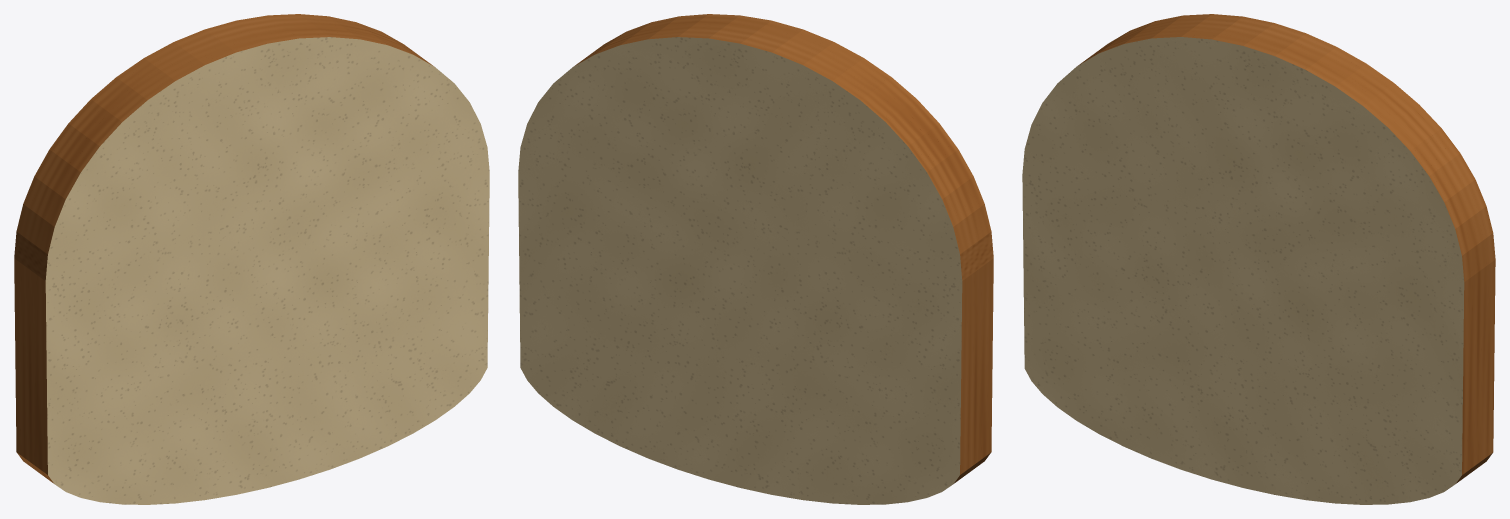
Rendered from bread-slice-v7.glb.
3 renders of one model, left to right at view 1: azimuth 30°, elevation 25°; view 2: azimuth 150°, elevation 25°; view 3: azimuth 330°, elevation 25°, orthographic.
Parts seen in each view (by area): view 1: crumb_front, crust_edge; view 2: crumb_back, crust_edge; view 3: crumb_front, crust_edge.
Boxes of the visible parts, x1,y1,x2,y2 form: crumb_front: (45, 37, 489, 504); crust_edge: (14, 14, 434, 483); crumb_back: (518, 37, 962, 504); crust_edge: (573, 14, 993, 483); crumb_front: (1022, 37, 1464, 504); crust_edge: (1078, 14, 1495, 483).
Size of the model in its own units: 0.114 by 0.109 by 0.014.
Materials: 3 (3 with a texture image).
